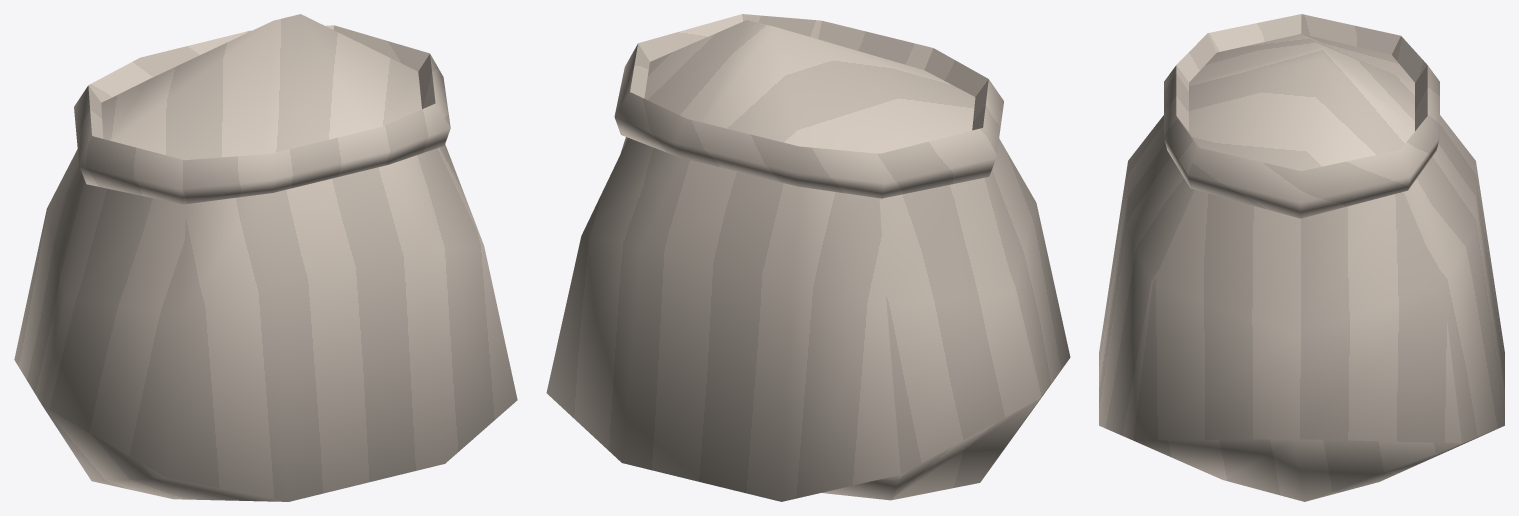
The model's file is Props_GrainBag.fbx.
3 views of the same model, side by side, from view 1: azimuth 30°, elevation 25°; view 2: azimuth 150°, elevation 25°; view 3: azimuth 270°, elevation 25° (orthographic). The views are drawn at different scales.
Visible parts, largest first — view 1: pCube151; view 2: pCube151; view 3: pCube151.
Boxes of the visible parts, x1,y1,x2,y2 form: pCube151: [14, 14, 517, 501]; pCube151: [546, 14, 1070, 501]; pCube151: [1099, 14, 1504, 501].
Size of the model in its own units: 1.34 by 1.17 by 1.11.
